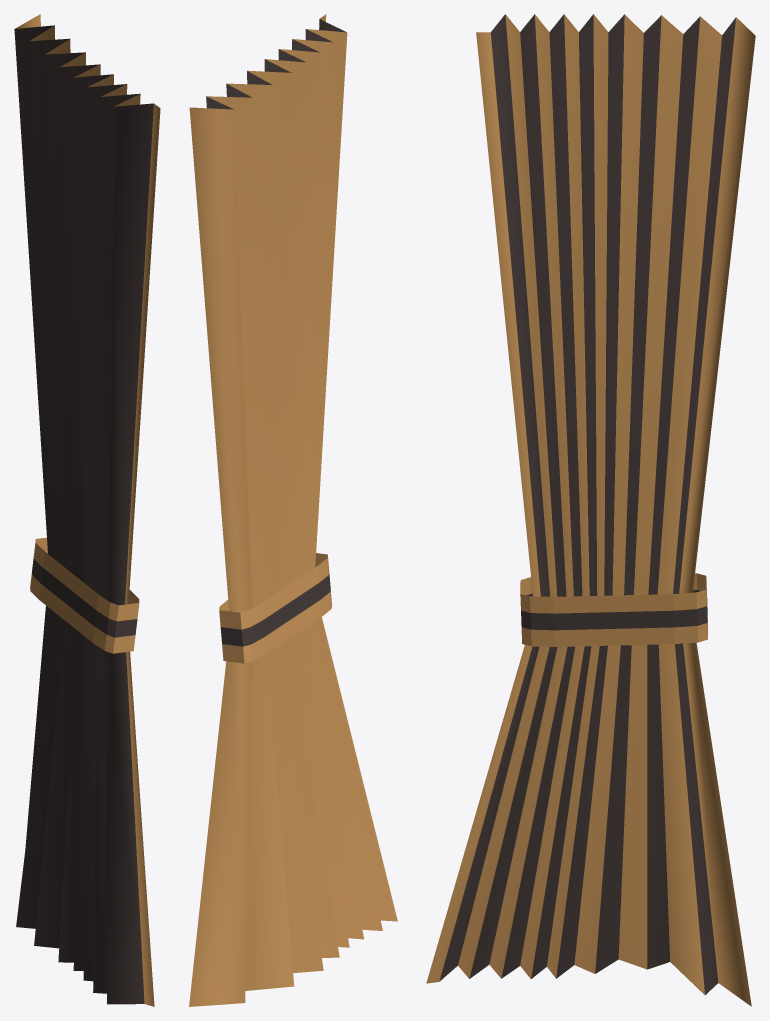
Rendered from M_Rideau_01.fbx.
3 renders of one model, left to right at view 1: azimuth 30°, elevation 25°; view 2: azimuth 150°, elevation 25°; view 3: azimuth 270°, elevation 25°, orthographic. The views are drawn at different scales.
Parts seen in each view (by area): view 1: SM_Rideau_01; view 2: SM_Rideau_01; view 3: SM_Rideau_01.
Part boxes in pixels (x1,y1,x2,y2): SM_Rideau_01: (14,14,160,1006); SM_Rideau_01: (189,14,397,1006); SM_Rideau_01: (426,14,755,1006).
Size of the model in its own units: 63.19 by 17.33 by 205.
